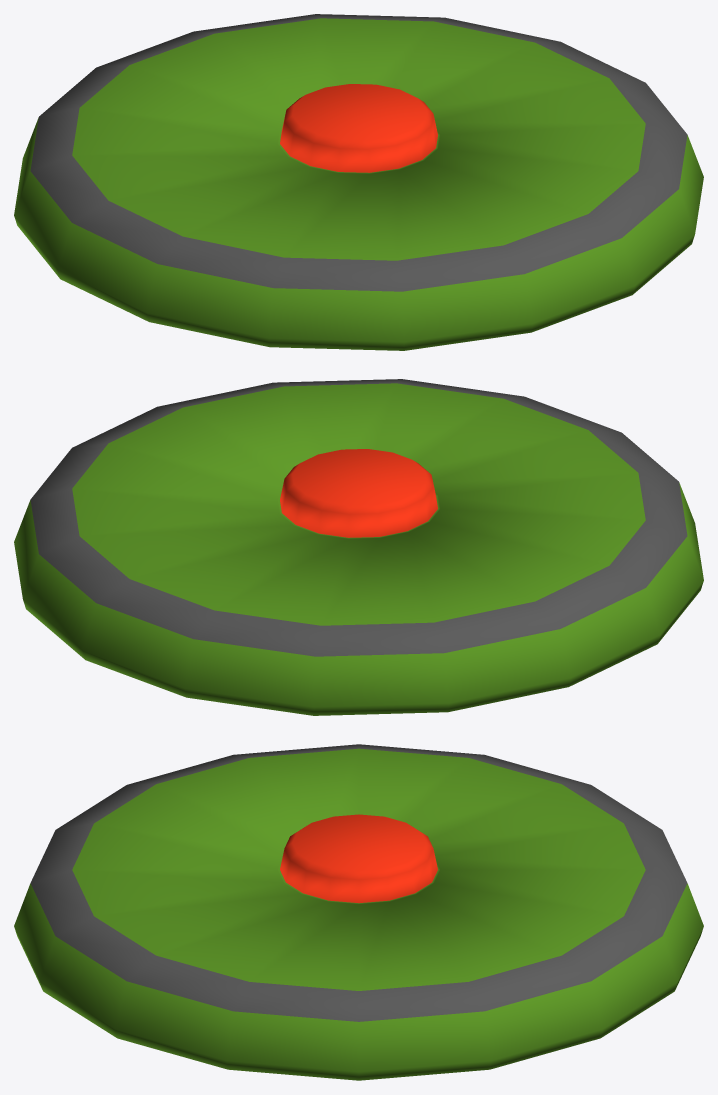
File: LandMine.fbx
The picture shows the model from 3 angles, top to bottom: view 1: azimuth 30°, elevation 25°; view 2: azimuth 150°, elevation 25°; view 3: azimuth 270°, elevation 25°; orthographic projection.
Visible parts, largest first — view 1: Circle; view 2: Circle; view 3: Circle.
Part boxes in pixels (box(x1,y1,x2,y2)): Circle: box(14, 14, 703, 350); Circle: box(14, 379, 703, 715); Circle: box(14, 744, 703, 1080).
Bounding box in the file's own units: 202 × 30.24 × 202.
Materials: 1 (1 with a texture image).
